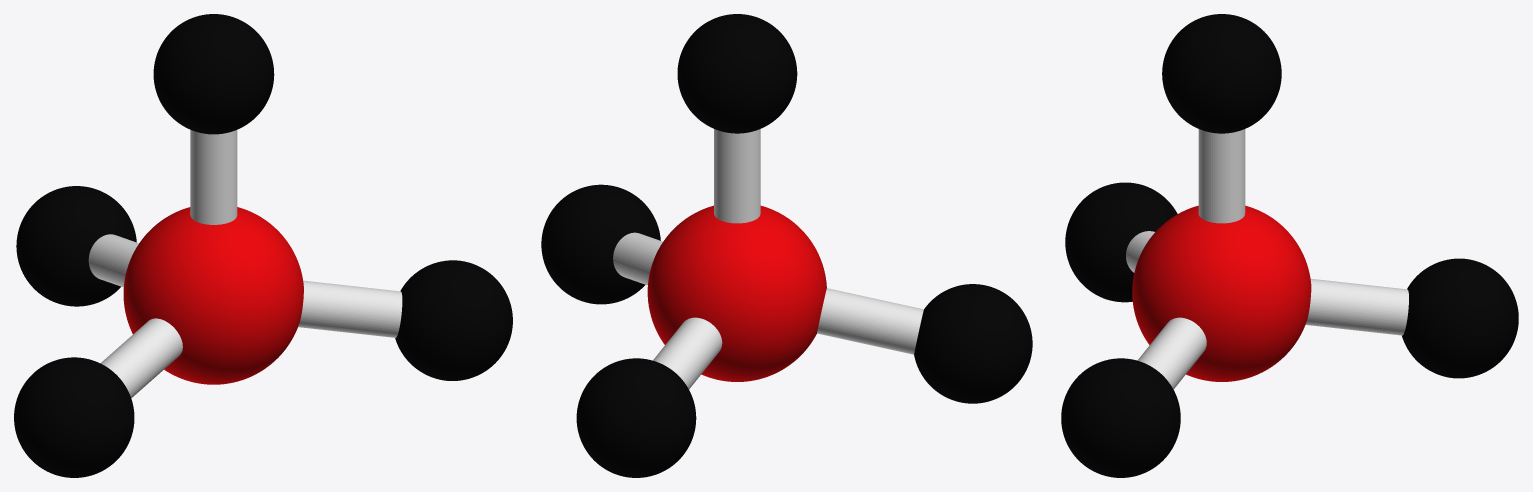
Rendered from tetrahedral.glb.
3 renders of one model, left to right at view 1: azimuth 30°, elevation 25°; view 2: azimuth 150°, elevation 25°; view 3: azimuth 270°, elevation 25°, orthographic.
Visible parts, largest first — view 1: Sphere, Sphere.002, Sphere.001, Sphere.003, Sphere.004; view 2: Sphere, Sphere.003, Sphere.001, Sphere.004, Sphere.002; view 3: Sphere, Sphere.004, Sphere.001, Sphere.002, Sphere.003.
Boxes of the visible parts, left/top/right/bottom form: Sphere: left=123, top=207, right=303, bottom=384; Sphere.002: left=298, top=260, right=512, bottom=380; Sphere.001: left=153, top=14, right=274, bottom=224; Sphere.003: left=14, top=318, right=182, bottom=477; Sphere.004: left=16, top=186, right=138, bottom=306; Sphere: left=647, top=205, right=826, bottom=381; Sphere.003: left=817, top=284, right=1032, bottom=403; Sphere.001: left=677, top=14, right=797, bottom=223; Sphere.004: left=576, top=317, right=722, bottom=477; Sphere.002: left=541, top=184, right=662, bottom=304; Sphere: left=1132, top=205, right=1311, bottom=381; Sphere.004: left=1305, top=258, right=1518, bottom=378; Sphere.001: left=1162, top=14, right=1281, bottom=223; Sphere.002: left=1061, top=317, right=1206, bottom=477; Sphere.003: left=1065, top=182, right=1177, bottom=302.
Size of the model in its own units: 9.14 by 6.74 by 7.59.
